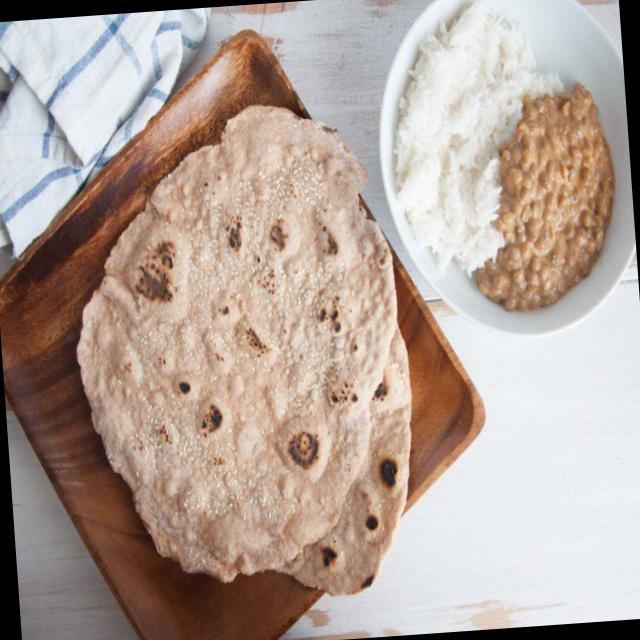rice: (391, 1, 568, 276)
roti: (70, 100, 418, 596)
